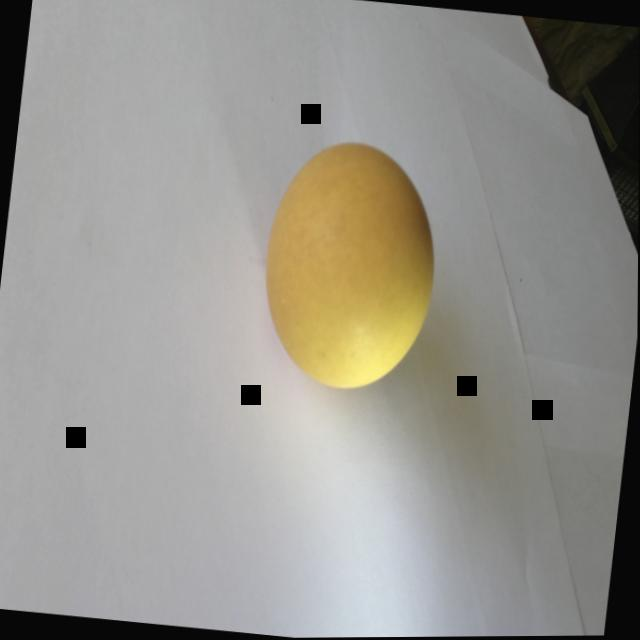Egg: (213, 82, 478, 443)
